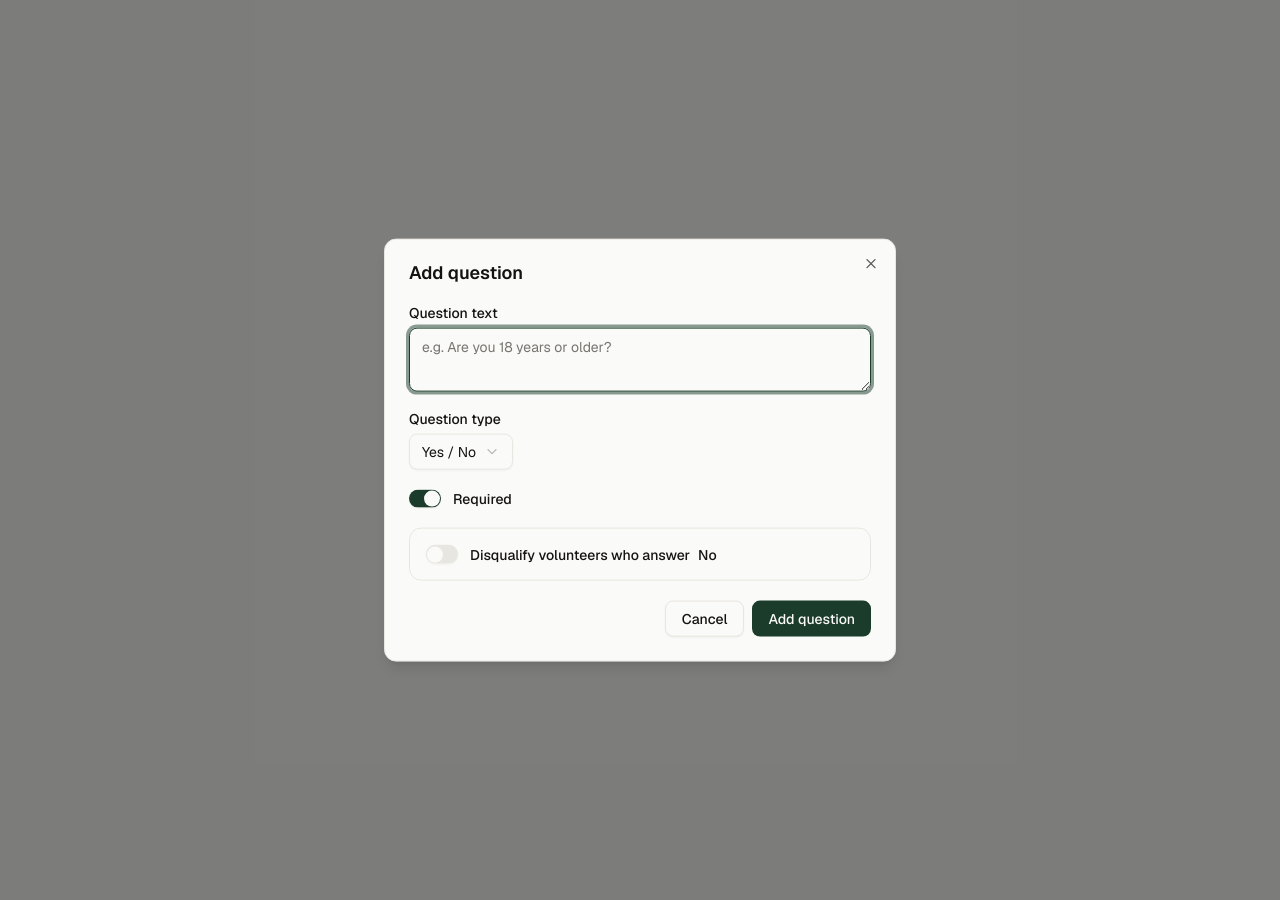
it: QuestionDialog component › does NOT submit when prompt is too short
In the text box with placeholder "e.g. Are you 18 years or older?": (640, 360) [409,328,871,392], type "Hi"
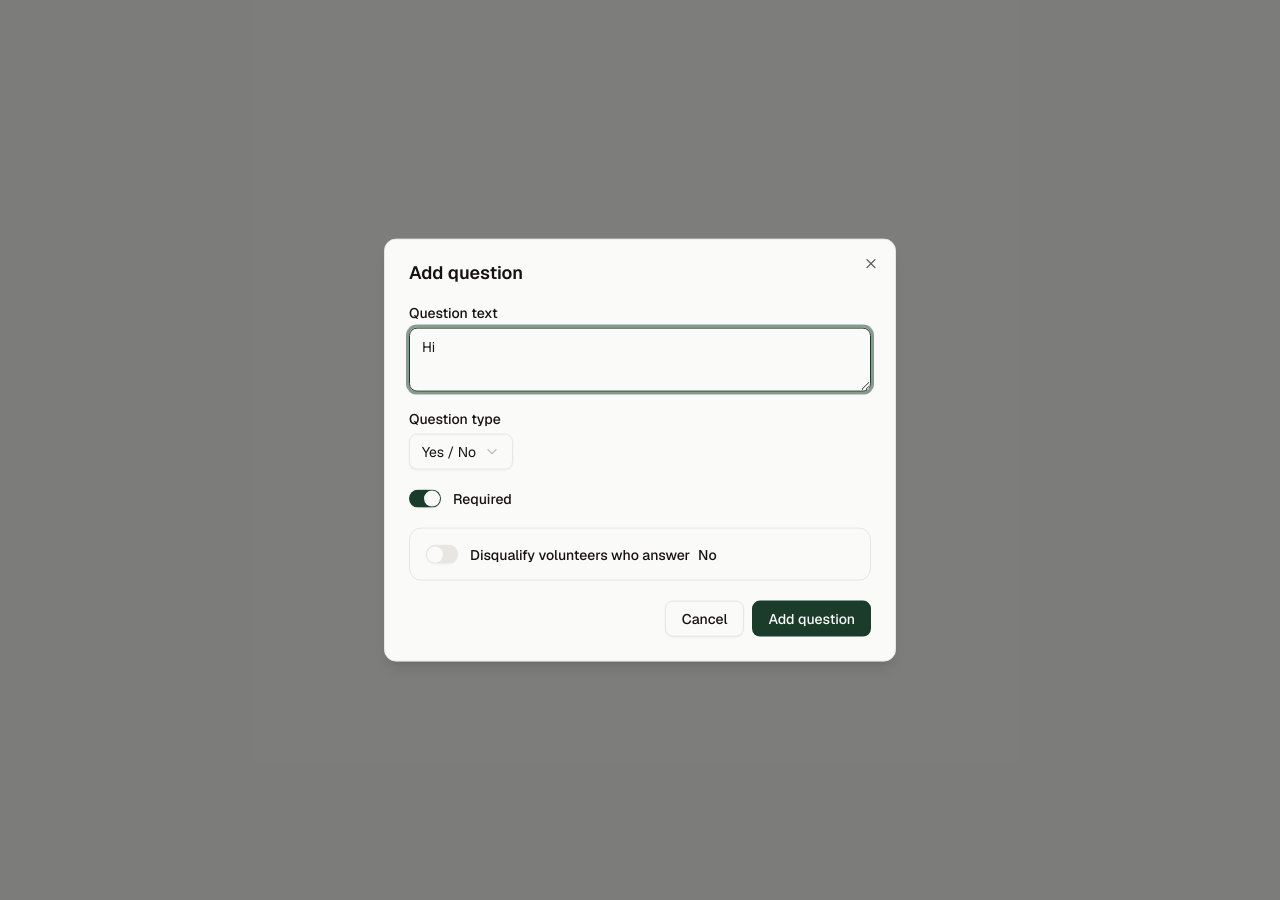
Click the button "Add question": (812, 618) [752,600,871,636]
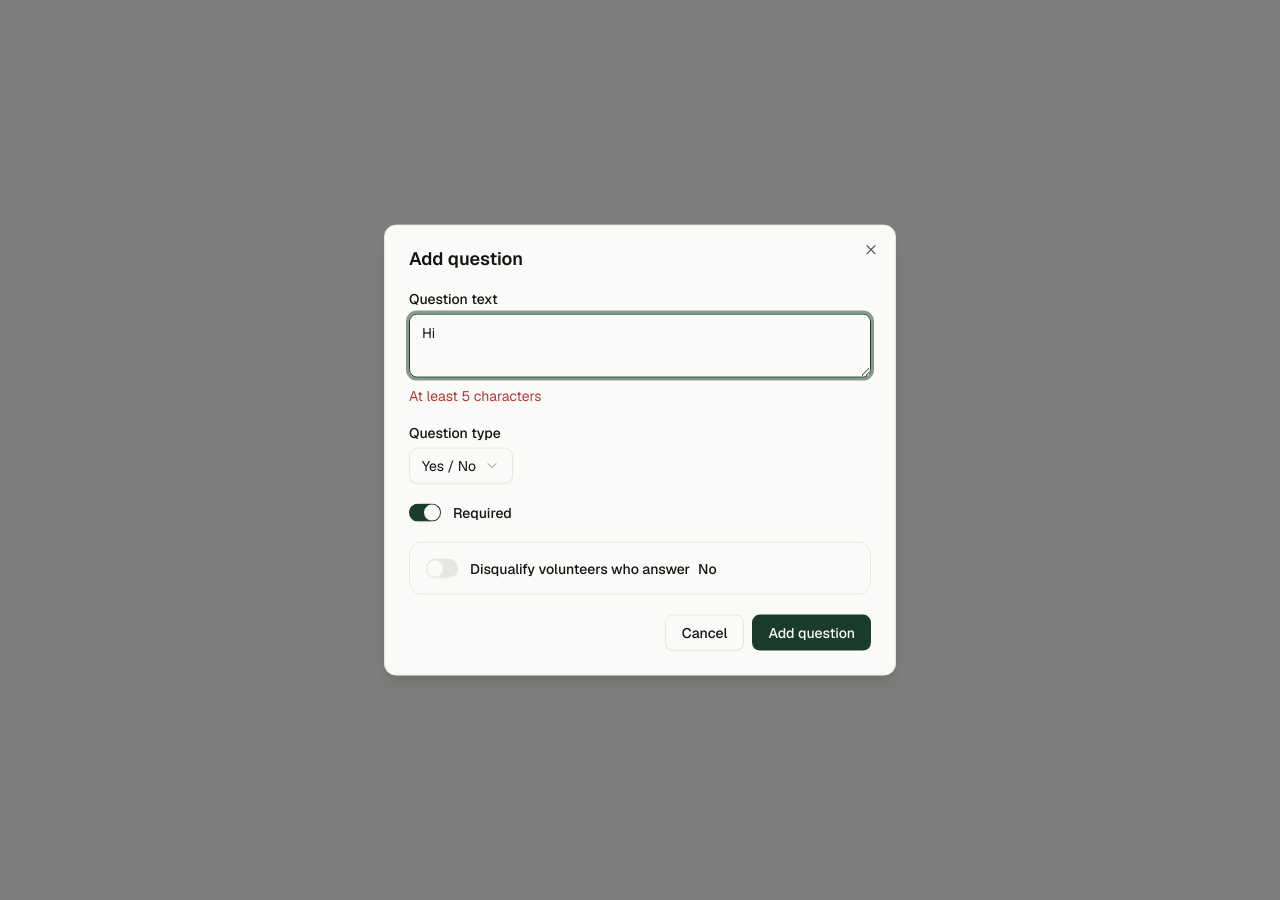
Check: the text "At least 5 characters" is shown, box [409,387,542,405]
